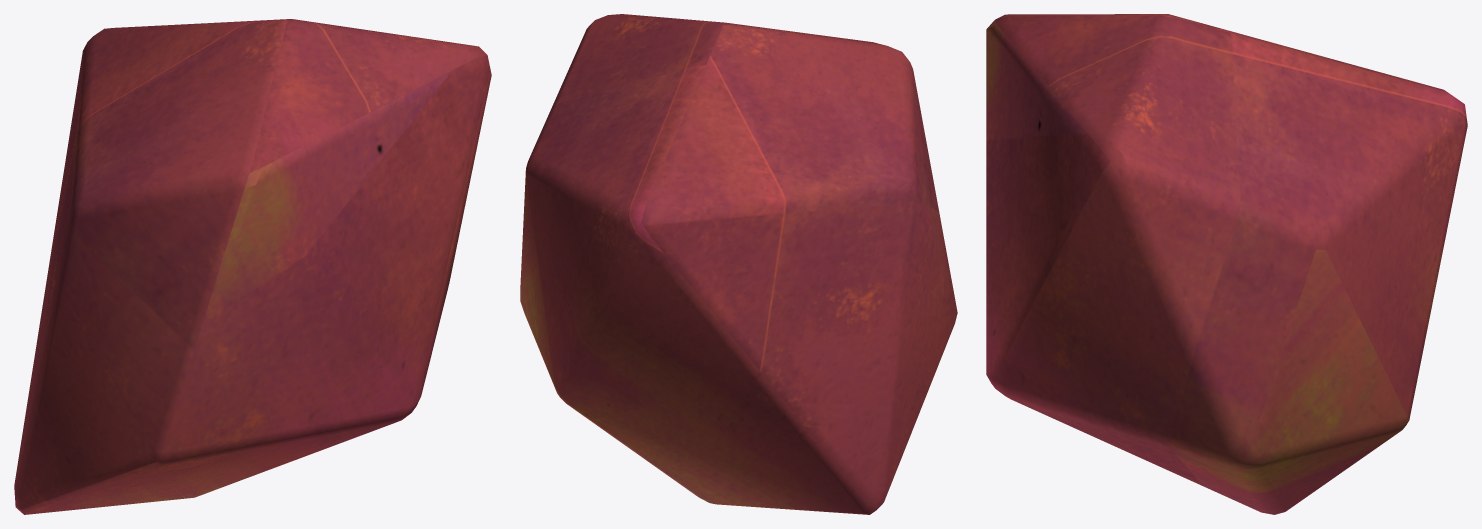
File: TEMPLE_DECOR_ROCKS_003.obj
3 views of the same model, side by side, from view 1: azimuth 30°, elevation 25°; view 2: azimuth 150°, elevation 25°; view 3: azimuth 270°, elevation 25° (orthographic). The views are drawn at different scales.
Visible parts, largest first — view 1: TEMPLE_DECOR_ROCKS_003; view 2: TEMPLE_DECOR_ROCKS_003; view 3: TEMPLE_DECOR_ROCKS_003.
Boxes of the visible parts, x1=… form: TEMPLE_DECOR_ROCKS_003: x1=14, y1=19, x2=491, y2=514; TEMPLE_DECOR_ROCKS_003: x1=520, y1=14, x2=957, y2=514; TEMPLE_DECOR_ROCKS_003: x1=986, y1=14, x2=1467, y2=514.
Size of the model in its own units: 0.5575 by 0.6336 by 0.534.
